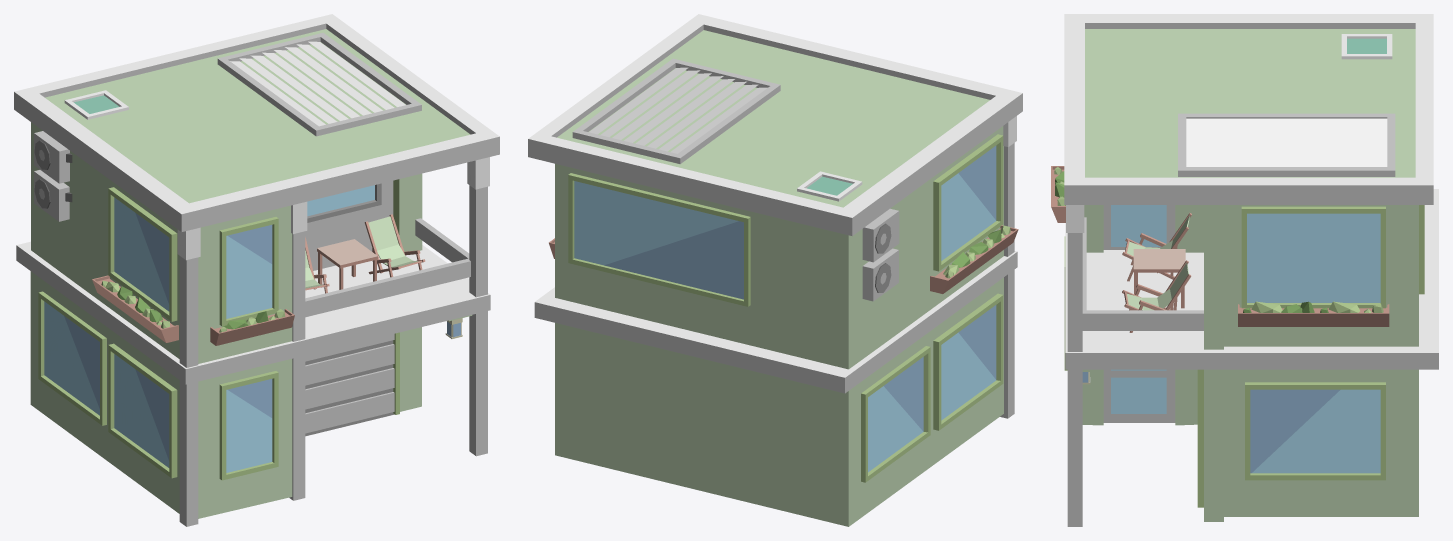
Rendered from cottage_008.fbx.
3 views of the same model, side by side, from view 1: azimuth 30°, elevation 25°; view 2: azimuth 150°, elevation 25°; view 3: azimuth 270°, elevation 25° (orthographic). The views are drawn at different scales.
Parts seen in each view (by area): view 1: cottage_008; view 2: cottage_008; view 3: cottage_008.
Boxes of the visible parts, x1,y1,x2,y2 form: cottage_008: (14, 14, 499, 526); cottage_008: (528, 14, 1022, 526); cottage_008: (1051, 14, 1438, 526).
Bounding box in the file's own units: 682 × 630 × 637.
